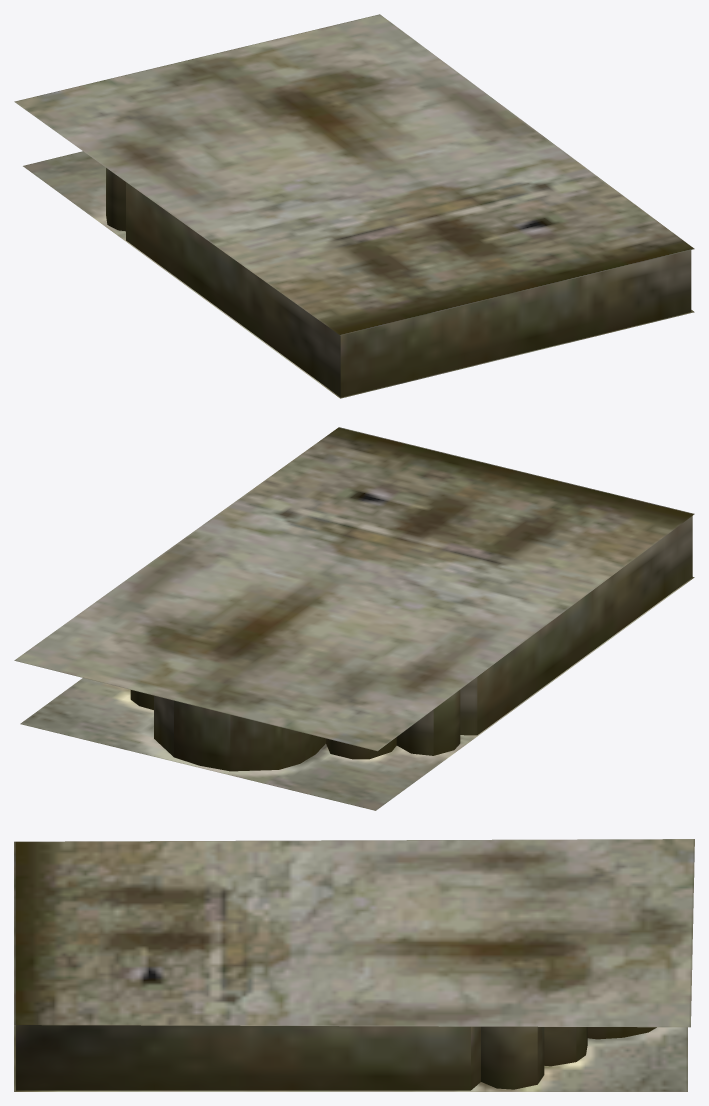
The model's file is INST_MIRK_GRAVESTONE_A.fbx.
3 views of the same model, one above another, from view 1: azimuth 30°, elevation 25°; view 2: azimuth 150°, elevation 25°; view 3: azimuth 270°, elevation 25° (orthographic). The views are drawn at different scales.
Parts seen in each view (by area): view 1: INST_MIRK_GRAVESTONE_A; view 2: INST_MIRK_GRAVESTONE_A; view 3: INST_MIRK_GRAVESTONE_A.
Part boxes in pixels (<box>): INST_MIRK_GRAVESTONE_A: <box>14,14,694,398</box>; INST_MIRK_GRAVESTONE_A: <box>14,427,694,810</box>; INST_MIRK_GRAVESTONE_A: <box>14,839,694,1091</box>.
Size of the model in its own units: 6312 by 1048 by 9647.
Materials: 2 (2 with a texture image).
